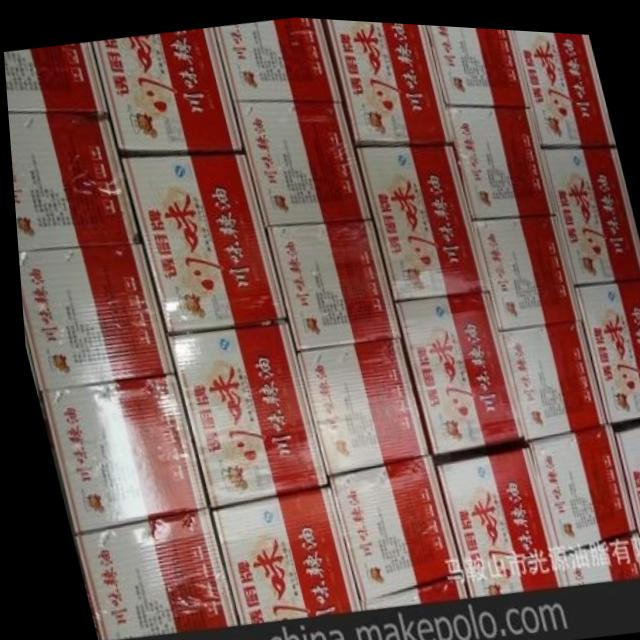box: (164, 319, 321, 507), (120, 151, 281, 331), (34, 372, 201, 532), (15, 242, 168, 390), (66, 507, 228, 640), (204, 481, 352, 622), (352, 139, 484, 296), (390, 287, 517, 448), (91, 24, 241, 153), (429, 441, 555, 594), (322, 450, 454, 596), (7, 109, 137, 251), (292, 332, 423, 471), (264, 216, 397, 347), (233, 98, 369, 222), (322, 15, 452, 142), (521, 418, 629, 549), (539, 139, 640, 278), (494, 315, 601, 433), (469, 210, 577, 326), (444, 98, 553, 212), (514, 24, 614, 138), (214, 14, 341, 98), (570, 272, 640, 416), (426, 20, 529, 101), (3, 40, 105, 111), (548, 523, 640, 580), (608, 418, 640, 562), (351, 567, 460, 606)
